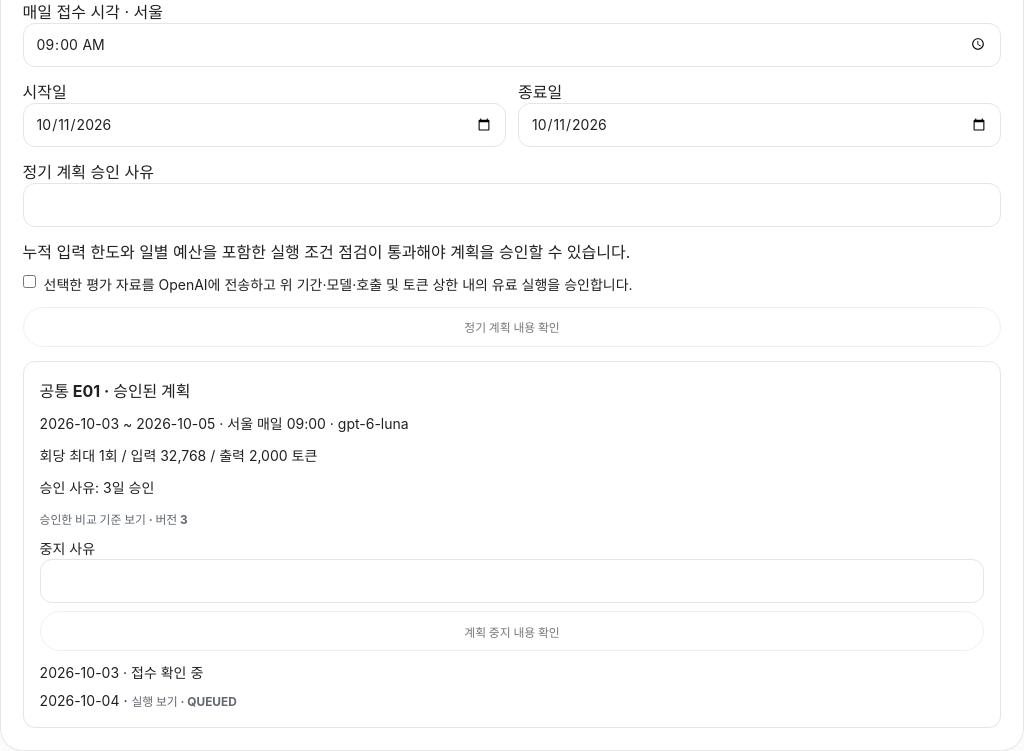
Test: 일별 정기 평가 계획 › 계획 중지 후 대기 기록은 중지 사유를 표시하고 접수된 실행 링크는 유지한다
(page scrolled)
Expected: the list item "2026-10-03 · 접수 확인 중" is shown, [40, 664, 203, 681]
In the field named "공통 E01 계획 중지 사유": (512, 581) [40, 559, 984, 603], type "배포 전 중지"
(page scrolled)
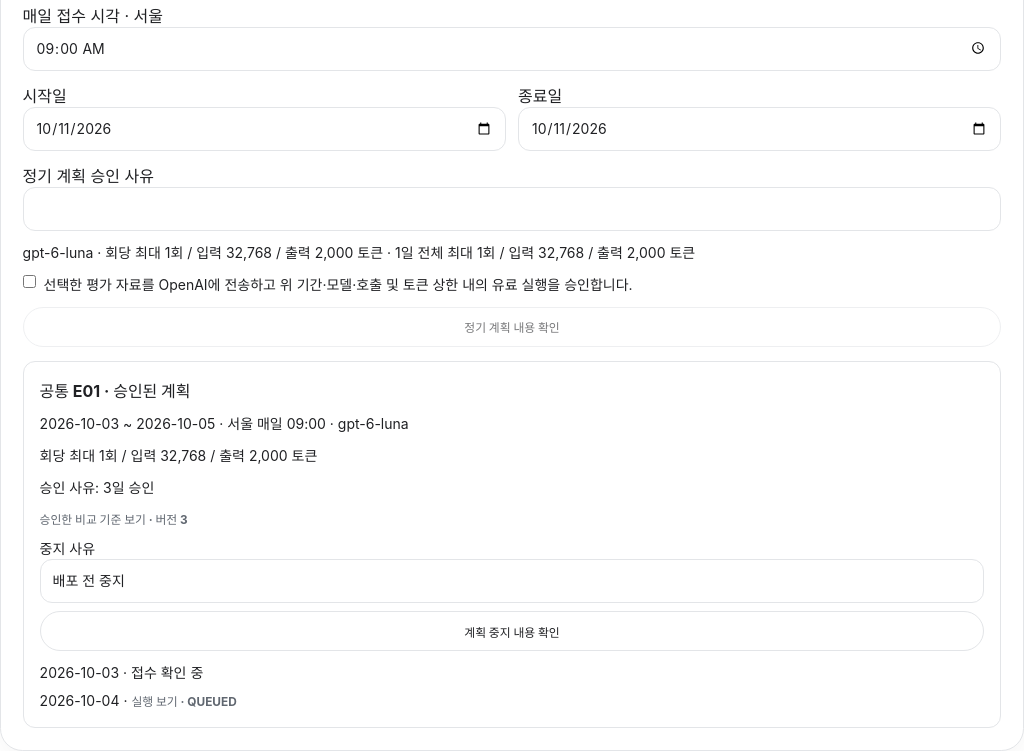
Click the button "계획 중지 내용 확인": (512, 631) [40, 611, 984, 651]
(page scrolled)
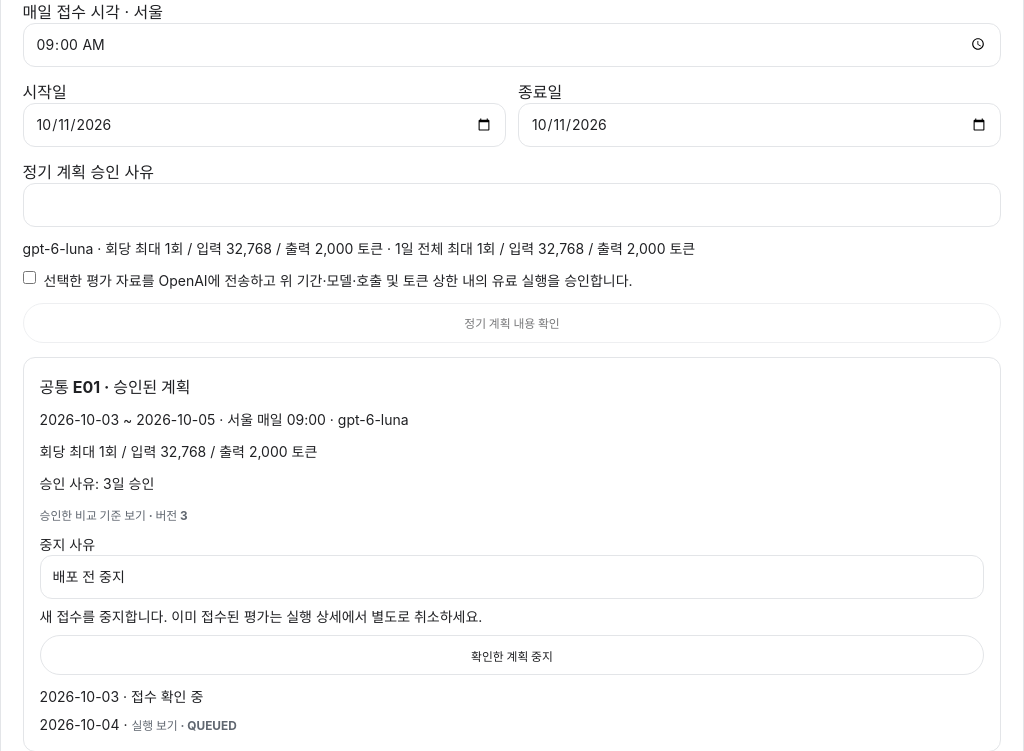
Click the button "확인한 계획 중지": (512, 655) [40, 635, 984, 675]
(page scrolled)
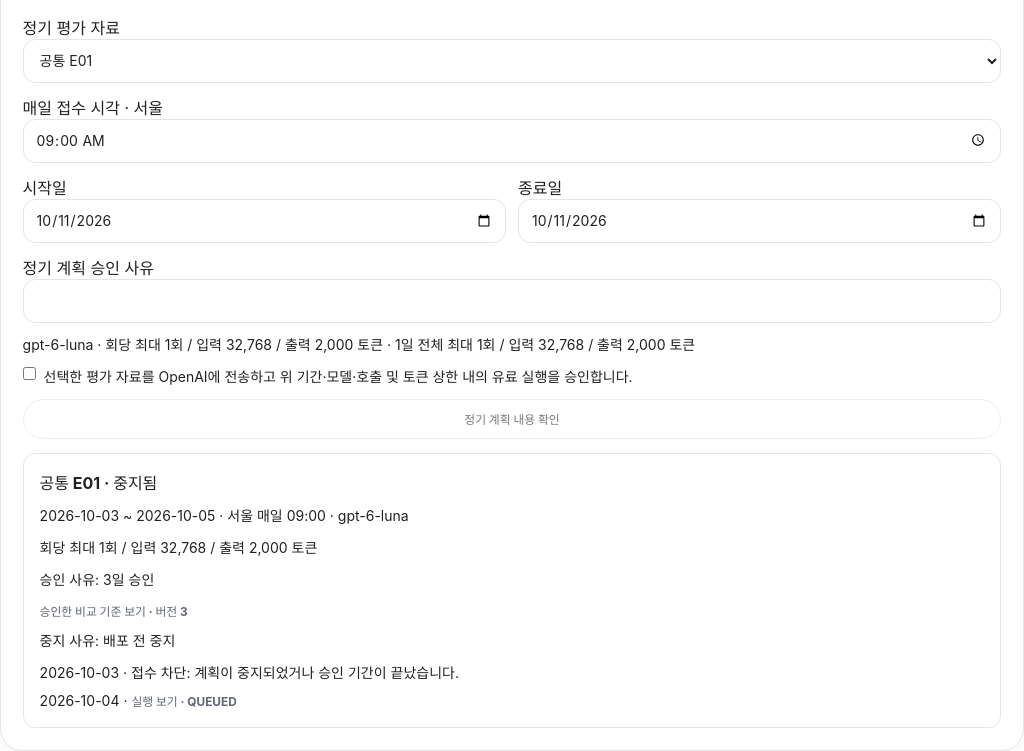
Now the list item "2026-10-03 · 접수 차단: 계획이 중지되었거나 승인 기간이 끝났습니다." is shown, box [40, 664, 459, 681]
Now the list item "접수 확인 중" is gone
